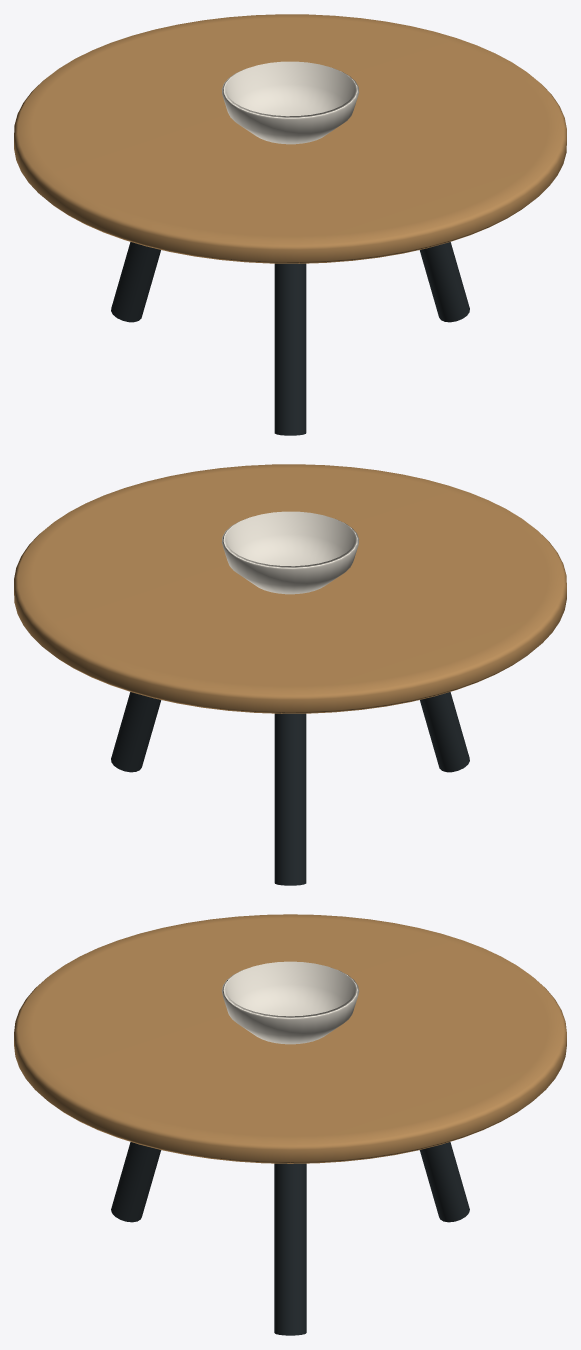
The model's file is coffee-table.glb.
3 renders of one model, top to bottom at view 1: azimuth 30°, elevation 25°; view 2: azimuth 150°, elevation 25°; view 3: azimuth 270°, elevation 25°, orthographic.
Parts seen in each view (by area): view 1: RoundedOakTop, CeramicBowl, SplayedLeg_1, SplayedLeg_0, SplayedLeg_2; view 2: RoundedOakTop, CeramicBowl, SplayedLeg_2, SplayedLeg_0, SplayedLeg_1; view 3: RoundedOakTop, CeramicBowl, SplayedLeg_0, SplayedLeg_1, SplayedLeg_2.
Boxes of the visible parts, box(x1,y1,x2,y2) form: RoundedOakTop: box(14, 14, 566, 263); CeramicBowl: box(221, 61, 359, 144); SplayedLeg_1: box(274, 263, 306, 435); SplayedLeg_0: box(419, 242, 469, 322); SplayedLeg_2: box(111, 242, 160, 322); RoundedOakTop: box(14, 464, 566, 713); CeramicBowl: box(221, 511, 359, 594); SplayedLeg_2: box(274, 713, 306, 885); SplayedLeg_0: box(111, 692, 161, 772); SplayedLeg_1: box(420, 692, 469, 772); RoundedOakTop: box(14, 914, 566, 1163); CeramicBowl: box(221, 961, 359, 1044); SplayedLeg_0: box(274, 1163, 306, 1335); SplayedLeg_1: box(111, 1142, 161, 1222); SplayedLeg_2: box(419, 1142, 469, 1222).
Bounding box in the file's own units: 0.964 × 0.5156 × 0.964.
